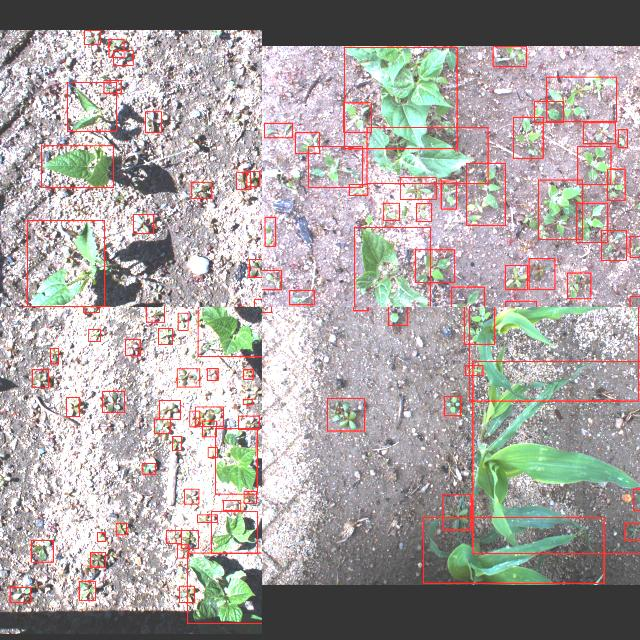crop: (472, 360, 640, 553), (469, 307, 638, 400), (422, 517, 604, 583), (344, 46, 458, 148), (367, 127, 488, 183), (27, 220, 104, 307), (354, 226, 430, 307), (187, 552, 262, 623), (198, 307, 262, 355), (41, 145, 113, 187), (215, 428, 257, 494), (67, 81, 116, 130), (211, 511, 257, 553)
weed: (547, 76, 617, 120), (538, 179, 582, 239), (466, 162, 506, 225), (308, 146, 362, 187), (415, 250, 455, 282), (576, 202, 608, 242), (513, 116, 543, 158), (578, 146, 610, 184), (328, 398, 364, 430), (463, 307, 494, 343), (442, 494, 472, 530), (343, 102, 371, 132), (400, 177, 436, 199), (529, 258, 555, 288), (602, 230, 626, 260), (493, 46, 527, 66), (583, 121, 615, 142), (451, 287, 484, 307), (534, 100, 564, 122), (567, 272, 591, 298), (607, 168, 625, 200), (505, 264, 527, 290), (195, 406, 223, 426), (31, 540, 53, 562), (295, 132, 319, 152), (102, 391, 124, 412), (264, 122, 292, 138), (441, 180, 457, 208), (177, 368, 200, 386), (262, 270, 282, 290), (160, 399, 180, 419), (134, 214, 154, 232), (145, 110, 161, 132), (264, 217, 276, 246), (78, 580, 95, 600), (388, 307, 408, 324), (444, 395, 461, 415), (290, 290, 314, 304), (192, 181, 212, 197), (10, 586, 30, 602), (238, 415, 260, 429), (108, 38, 124, 56), (384, 202, 400, 220), (416, 203, 432, 221), (32, 369, 48, 387), (182, 530, 198, 548), (113, 50, 133, 64), (66, 396, 80, 416), (145, 307, 164, 321), (154, 418, 170, 434), (184, 488, 200, 504), (625, 522, 640, 539), (237, 171, 251, 189), (126, 338, 140, 356), (249, 259, 262, 277), (84, 29, 100, 43), (180, 586, 194, 602), (90, 552, 106, 566), (158, 327, 172, 343), (202, 420, 216, 436), (166, 529, 182, 543), (348, 183, 368, 194), (505, 300, 536, 307), (104, 80, 122, 92), (630, 235, 640, 256), (247, 170, 260, 186), (618, 129, 628, 147), (178, 312, 188, 330), (223, 500, 241, 510), (198, 514, 218, 522), (190, 410, 200, 426), (466, 365, 482, 375), (89, 328, 101, 340), (206, 367, 218, 379), (244, 491, 256, 503), (142, 463, 156, 473), (172, 436, 182, 450), (178, 544, 188, 558), (50, 348, 59, 362), (629, 296, 640, 307), (115, 524, 126, 534), (243, 369, 253, 379), (208, 447, 216, 457), (254, 298, 262, 307), (98, 532, 106, 540), (84, 307, 100, 311), (243, 398, 253, 404)
